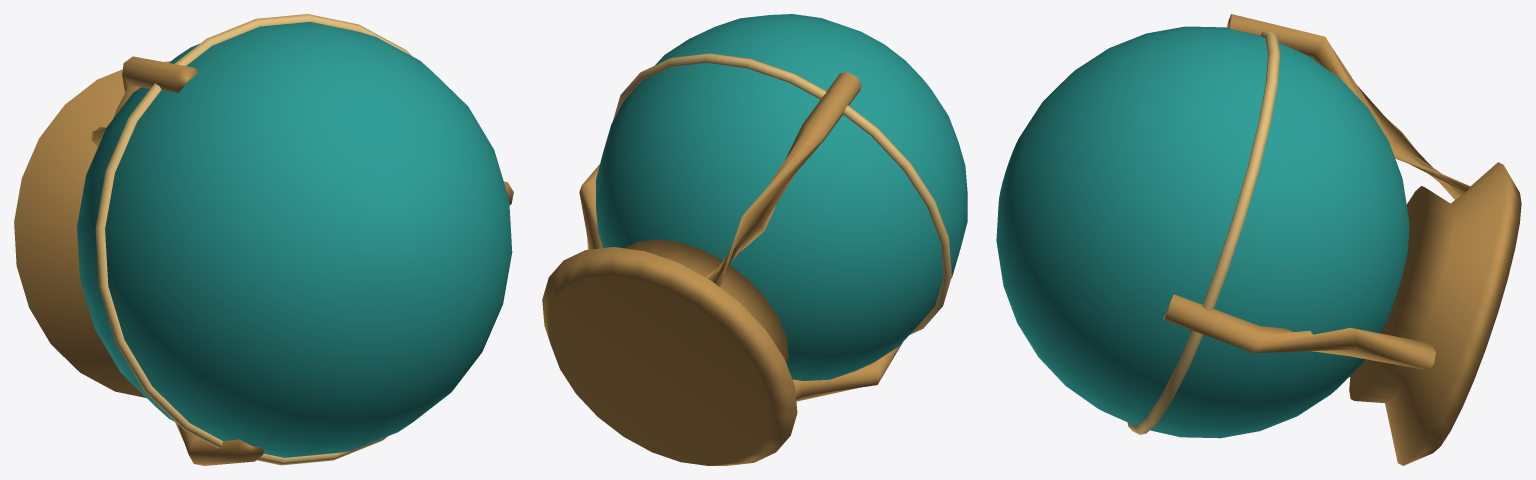
The model's file is glass_orb.glb.
3 renders of one model, left to right at view 1: azimuth 30°, elevation 25°; view 2: azimuth 150°, elevation 25°; view 3: azimuth 270°, elevation 25°, orthographic. The views are drawn at different scales.
Visible parts, largest first — view 1: SM_glass_orb; view 2: SM_glass_orb; view 3: SM_glass_orb.
Boxes of the visible parts, bbox=[...] form: SM_glass_orb: bbox=[14, 14, 513, 465]; SM_glass_orb: bbox=[542, 14, 967, 465]; SM_glass_orb: bbox=[996, 14, 1521, 465].
Bounding box in the file's own units: 0.2636 × 0.2681 × 0.3148.
